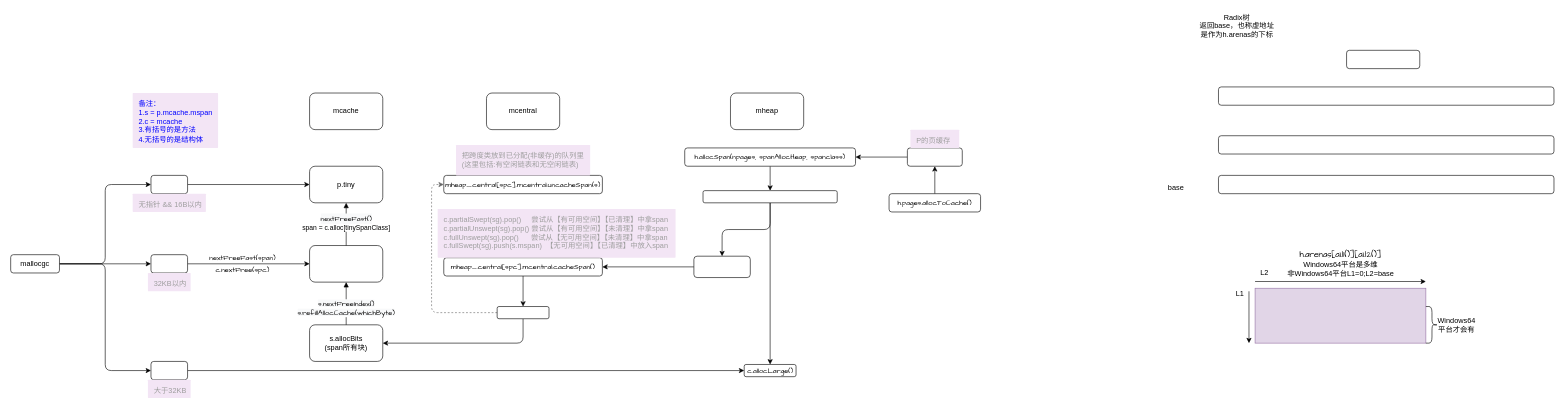
Image size: 1565x408. Some labels were removed from this diagram. The centre of each missing label's shape, as x and y in pixels:
&pp.pcache: [934,156]
[0][0] [0][...] [0][L2] heapArena heapArena heapArena [L1][0] [L1][...] [L1][L2]: [1340,315]
c.grow() (c = mcentral): [721,267]
c.refill(spc): [523,312]
mheap_.alloc(npages, c.spanclass): [769,196]
s.allocCache (64块): [346,263]
大对象: [169,370]
小对象: [169,263]
微对象: [169,184]
